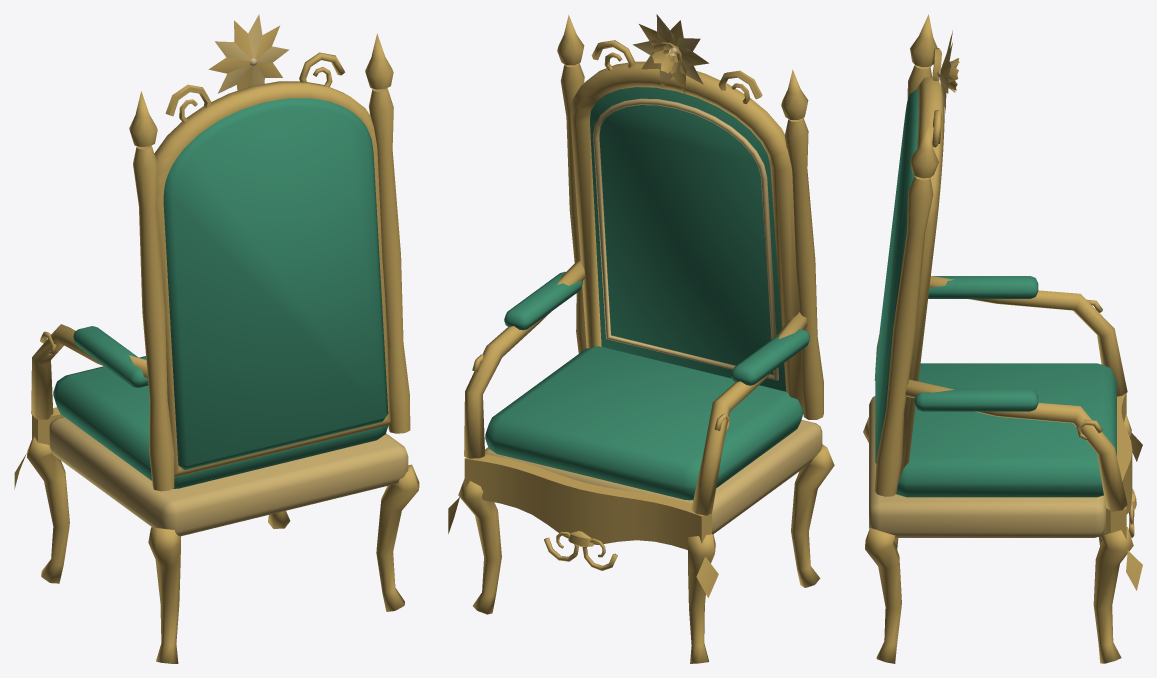
File: chair_head_dining.glb
3 renders of one model, left to right at view 1: azimuth 30°, elevation 25°; view 2: azimuth 150°, elevation 25°; view 3: azimuth 270°, elevation 25°, orthographic. The views are drawn at different scales.
Parts seen in each view (by area): view 1: chair_head_dining; view 2: chair_head_dining; view 3: chair_head_dining.
Part boxes in pixels (left/top/right/bottom): chair_head_dining: left=14, top=14, right=419, bottom=663; chair_head_dining: left=448, top=14, right=834, bottom=663; chair_head_dining: left=863, top=14, right=1142, bottom=663.
Size of what is drawn, in the model's own units: 0.85 by 1.7 by 0.75.
